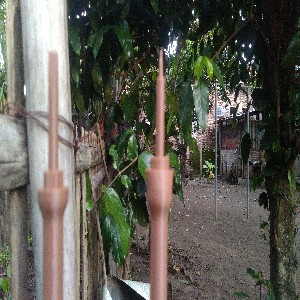obeng: (35, 50, 70, 300)
solder: (144, 46, 177, 300)
